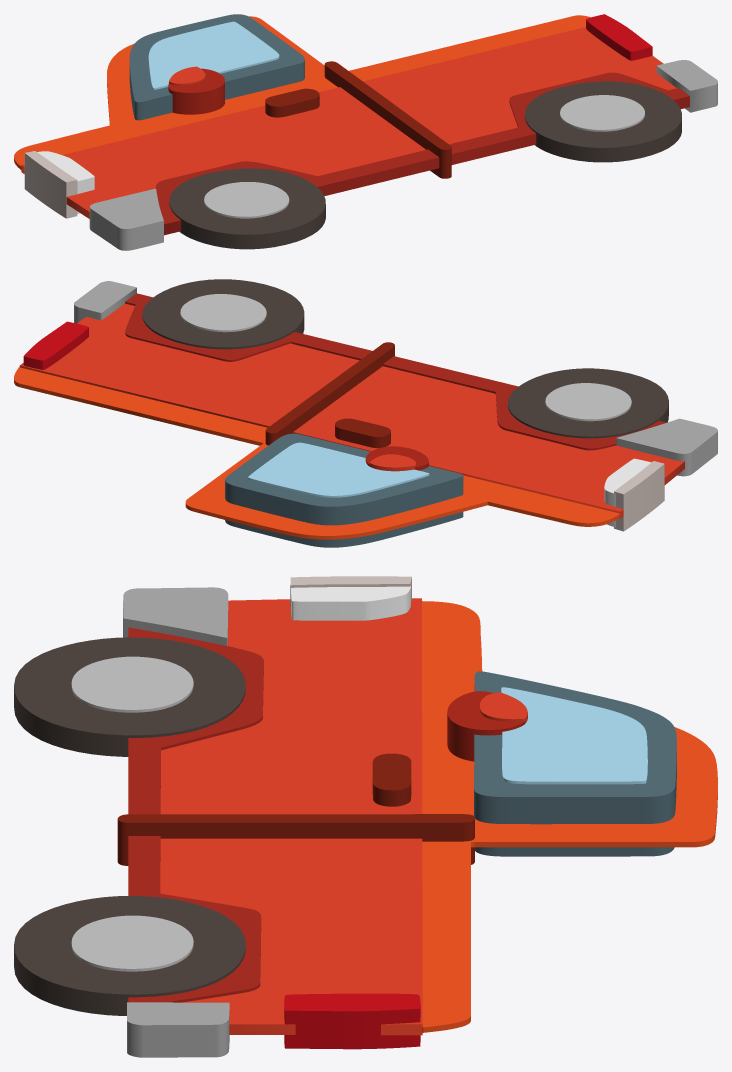
The model's file is emoji_u1f6fb.glb.
3 renders of one model, top to bottom at view 1: azimuth 30°, elevation 25°; view 2: azimuth 150°, elevation 25°; view 3: azimuth 270°, elevation 25°, orthographic. The views are drawn at different scales.
Parts seen in each view (by area): view 1: emoji_u1f6fb; view 2: emoji_u1f6fb; view 3: emoji_u1f6fb.
Part boxes in pixels (x1=…): emoji_u1f6fb: x1=14, y1=14, x2=717, y2=250; emoji_u1f6fb: x1=14, y1=279, x2=717, y2=547; emoji_u1f6fb: x1=14, y1=576, x2=717, y2=1057.
Bounding box in the file's own units: 0.0347 × 0.0028 × 0.0236.
